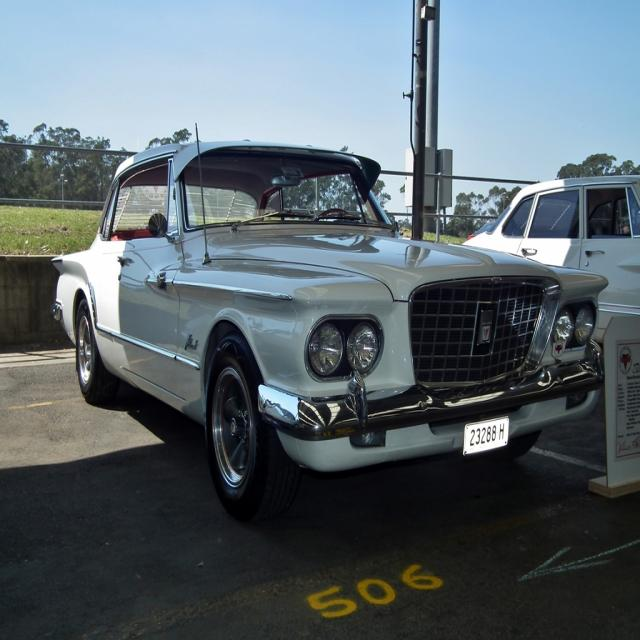car: (48, 120, 607, 514)
